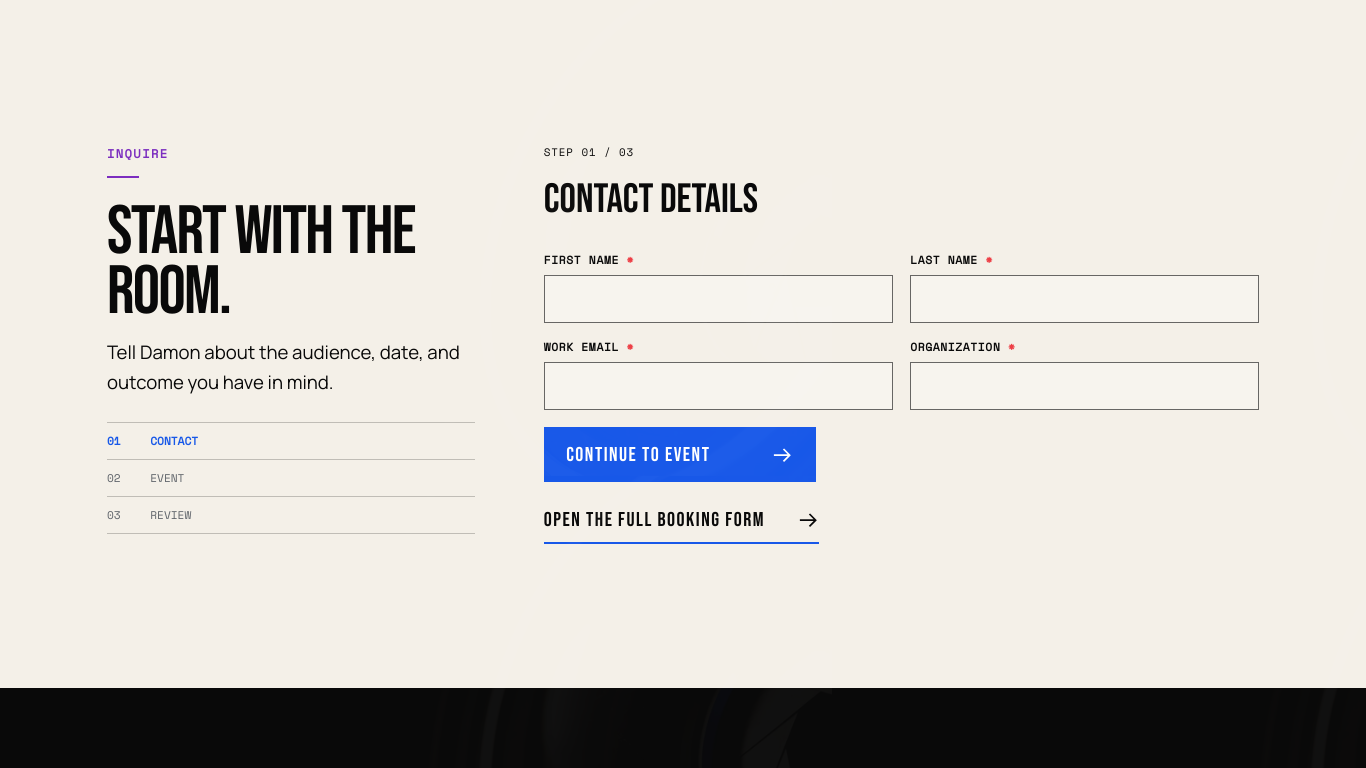
Scenario: homepage inquiry form › advances to Event and Back preserves values while focusing the heading
This screenshot has width=1366, height=768.
Type "Taylor" into the field labelled "First name *" at (718, 299), box [544, 275, 893, 323]
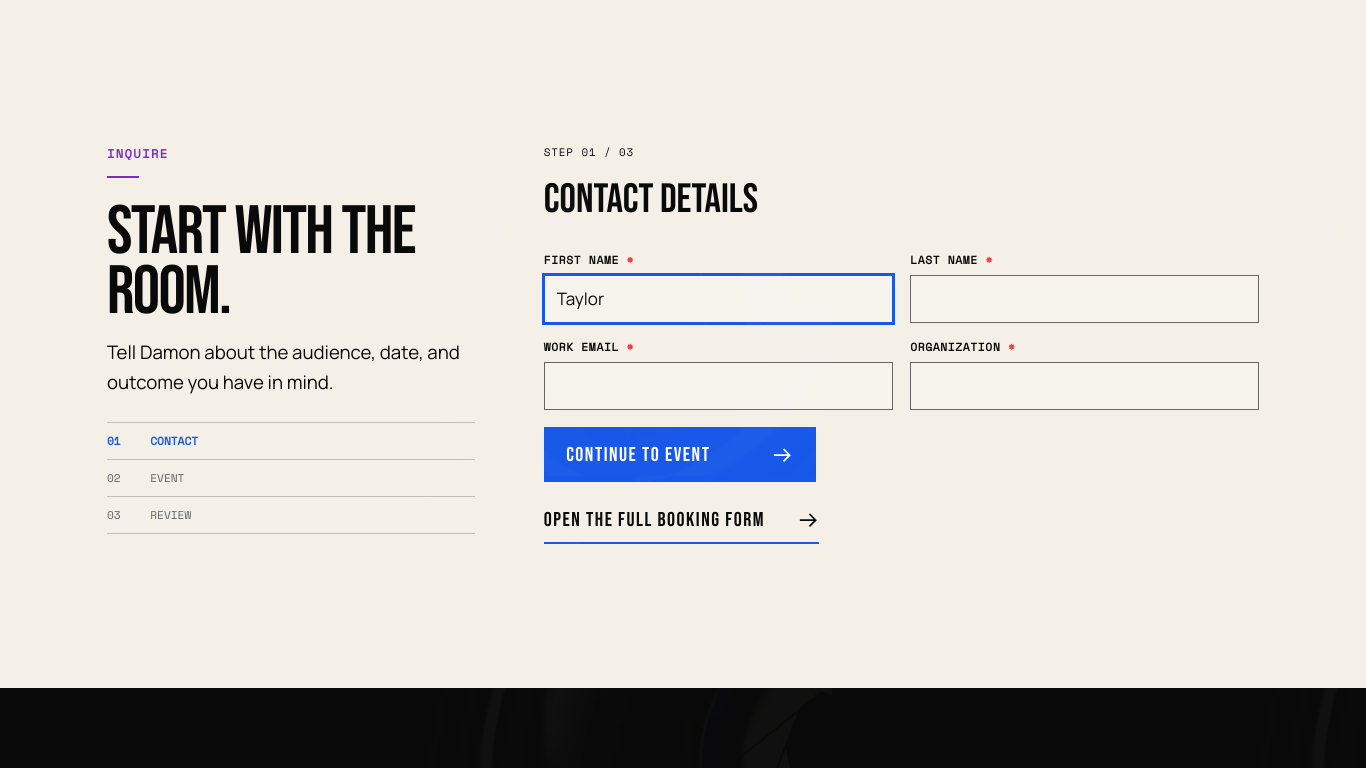
Type "Morgan" into the field labelled "Last name *" at (1085, 299), box [910, 275, 1259, 323]
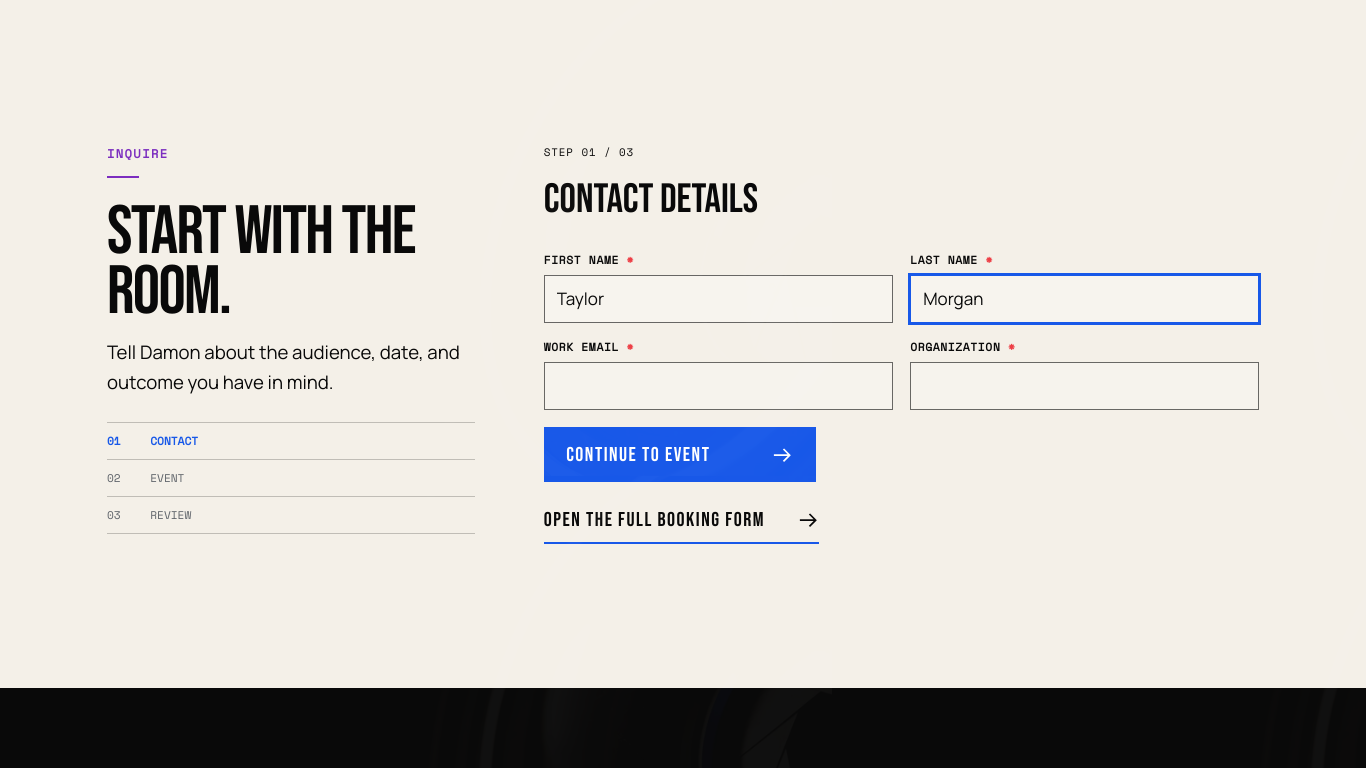
Type "taylor@example.org" into the field labelled "Work email *" at (718, 386), box [544, 362, 893, 410]
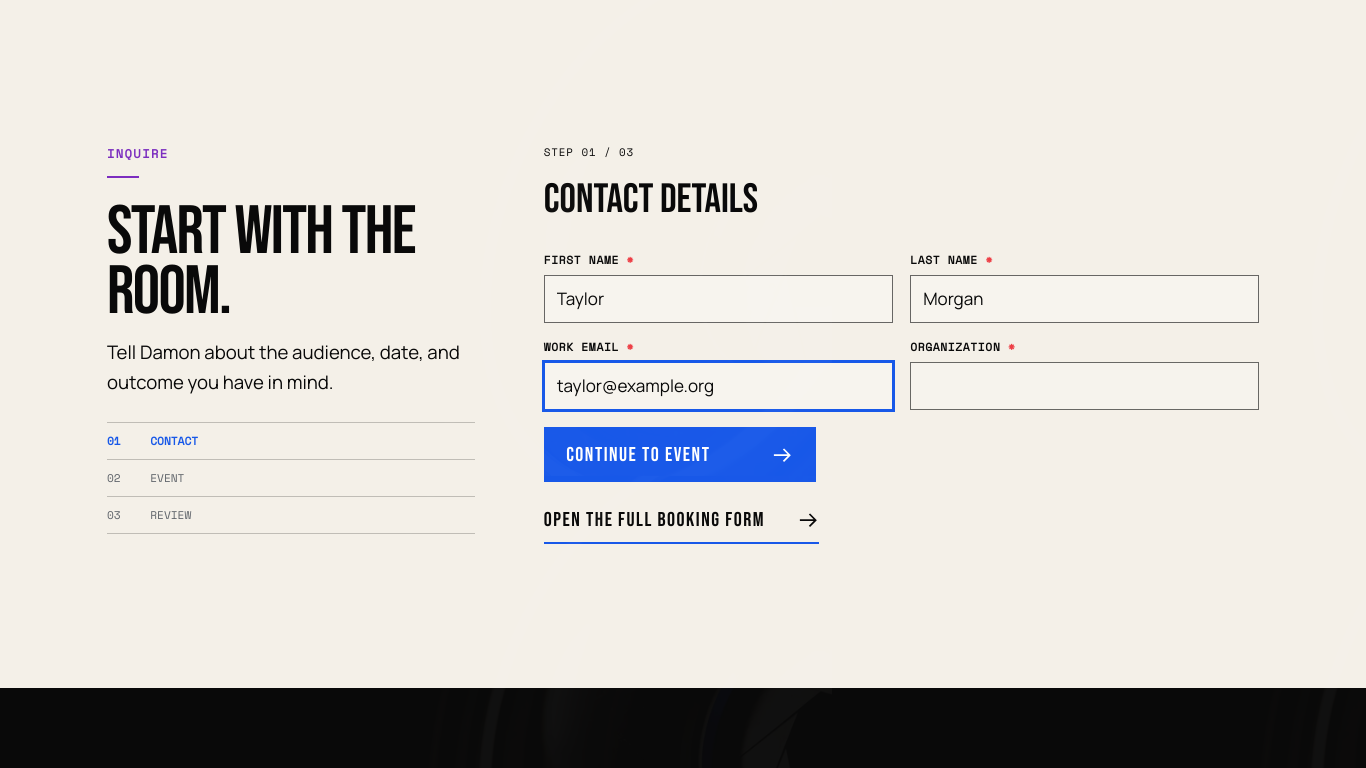
Type "North Star Academy" into the field labelled "Organization *" at (1085, 386), box [910, 362, 1259, 410]
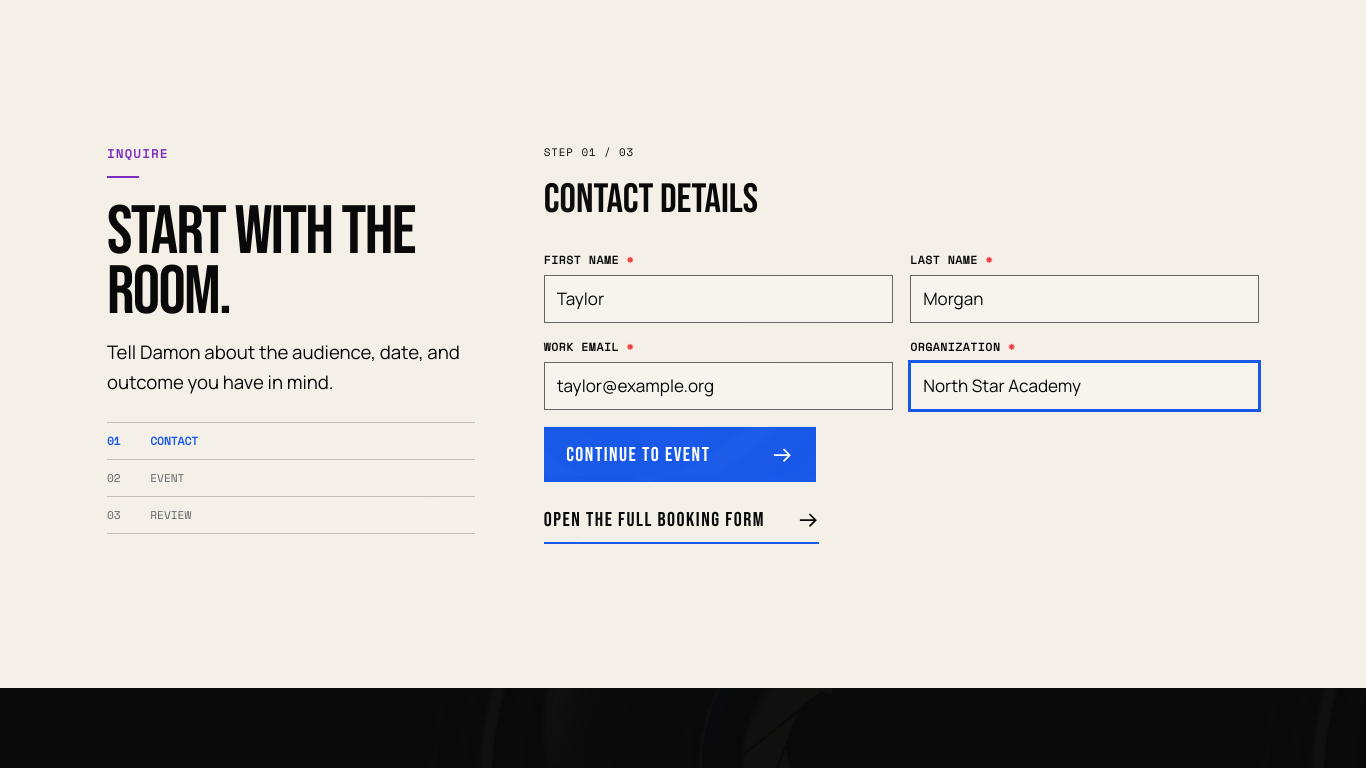
Click the button "Continue to Event" at (680, 455), box [544, 427, 816, 482]
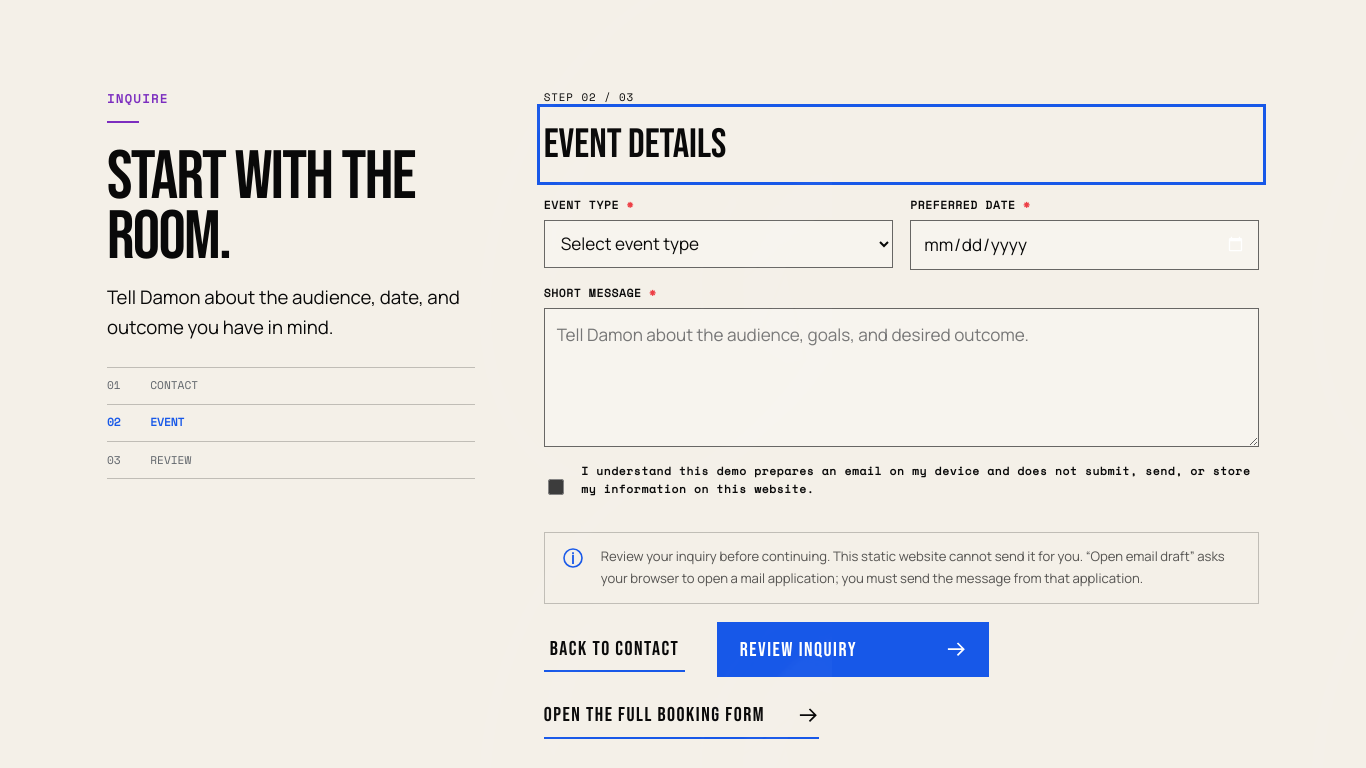
Click the button "Back to Contact" at (615, 650), box [544, 627, 685, 672]
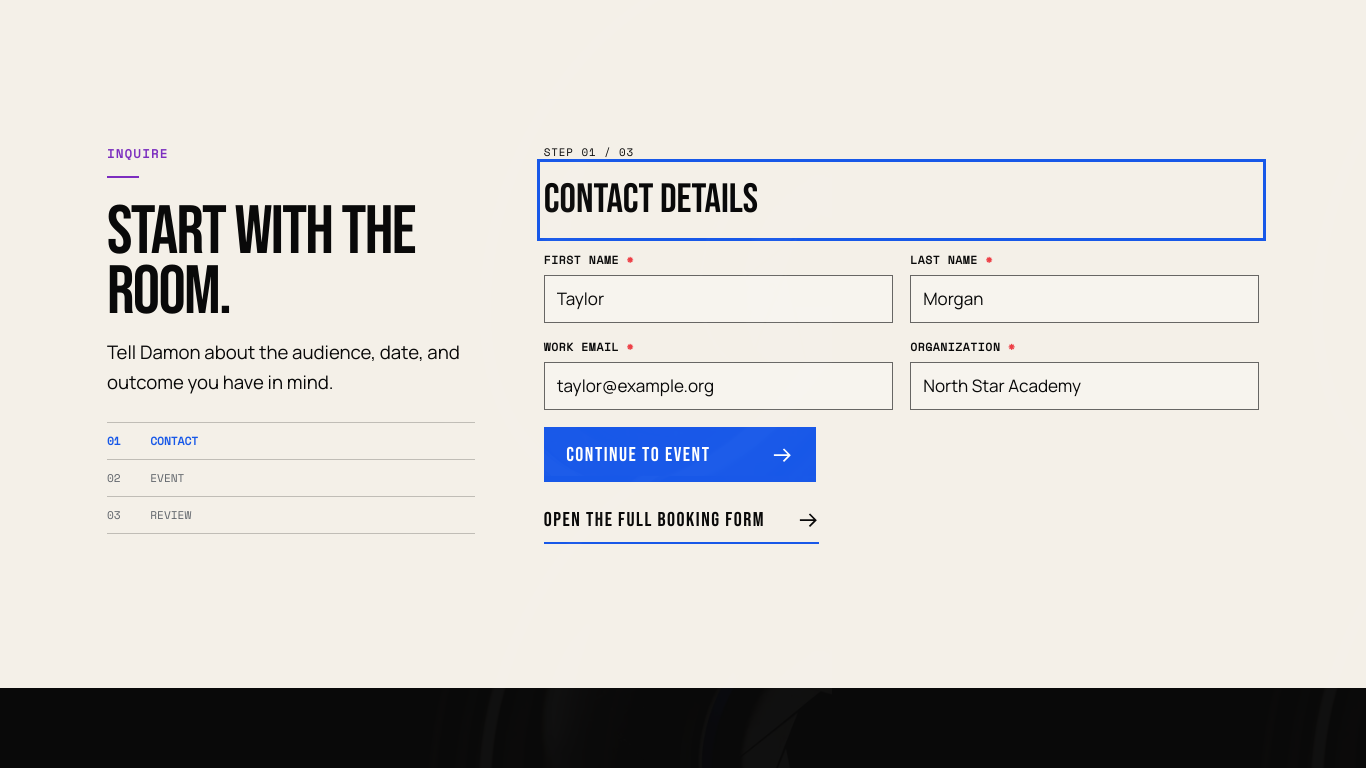
Check: the field labelled "First name *" holds "Taylor", box [544, 275, 893, 323]
Check: the field labelled "Organization *" holds "North Star Academy", box [910, 362, 1259, 410]
